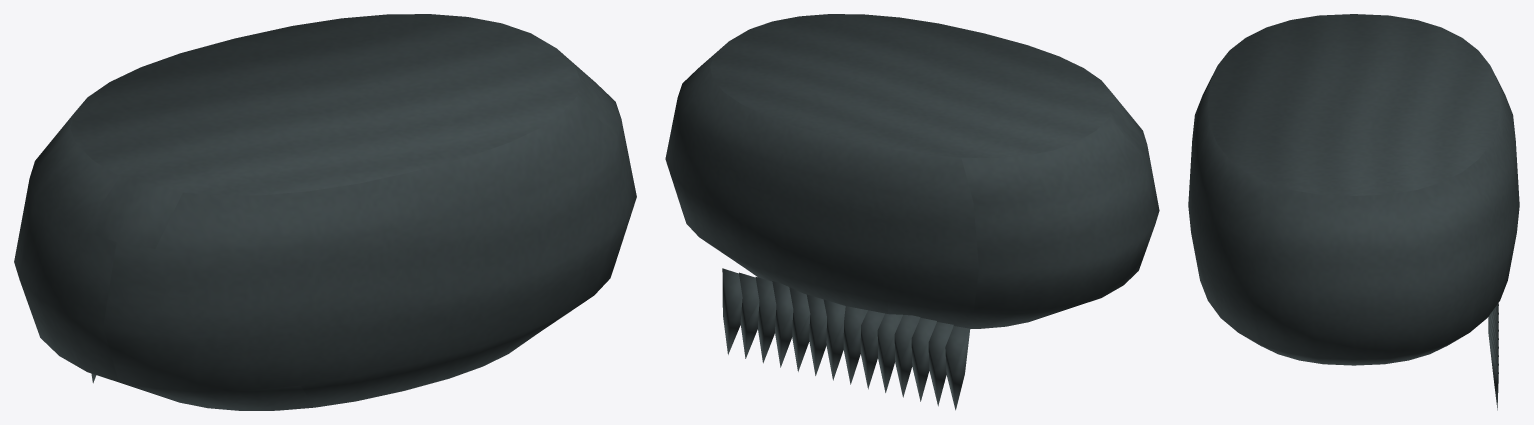
Rendered from hips_lod0.glb.
The picture shows the model from 3 angles, left to right: view 1: azimuth 30°, elevation 25°; view 2: azimuth 150°, elevation 25°; view 3: azimuth 270°, elevation 25°; orthographic projection. The views are drawn at different scales.
Visible parts, largest first — view 1: dormin_hips_LOD0; view 2: dormin_hips_LOD0; view 3: dormin_hips_LOD0.
Part boxes in pixels (x1=…): dormin_hips_LOD0: x1=14, y1=14, x2=636, y2=410; dormin_hips_LOD0: x1=665, y1=14, x2=1159, y2=410; dormin_hips_LOD0: x1=1188, y1=14, x2=1519, y2=410.
Bounding box in the file's own units: 4.08 × 2.11 × 2.54.
1 material, 1 textured.
